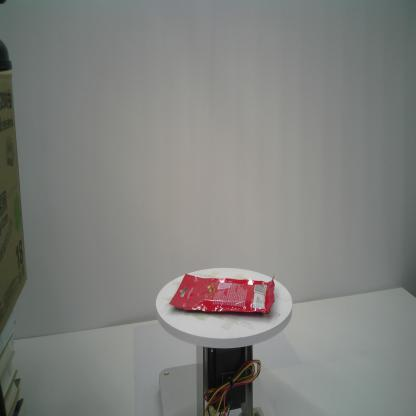Candy: (169, 271, 275, 318)
